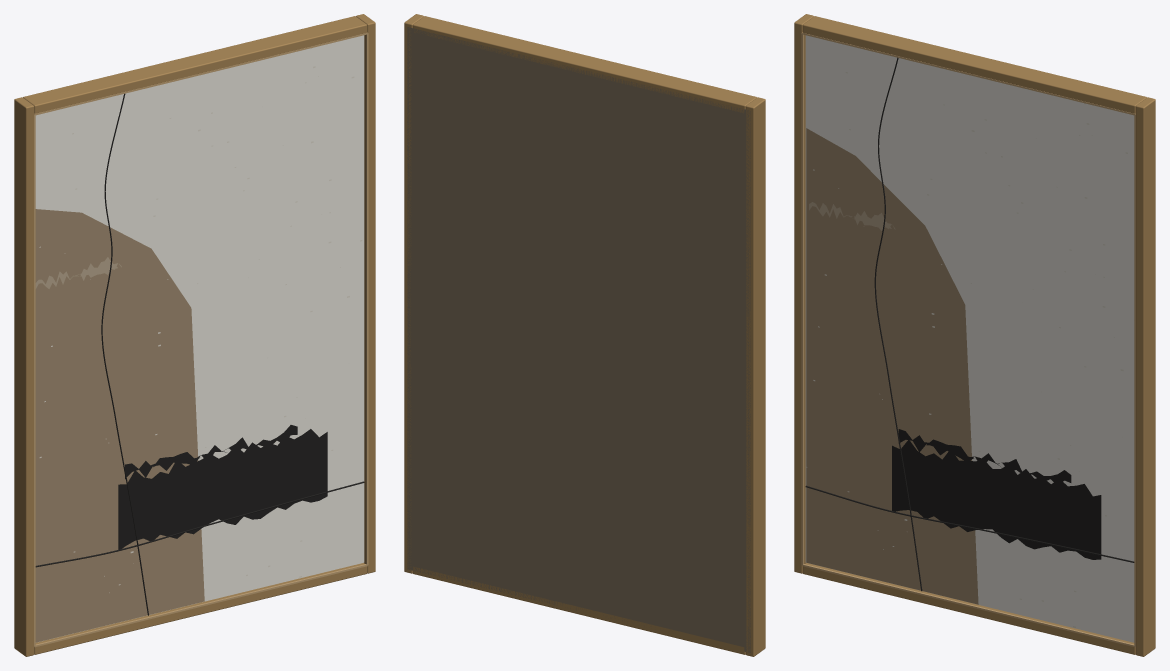
The model's file is kairne-abstract-1.glb.
3 renders of one model, left to right at view 1: azimuth 30°, elevation 25°; view 2: azimuth 150°, elevation 25°; view 3: azimuth 330°, elevation 25°, orthographic.
Parts seen in each view (by area): view 1: Ivory canvas, Warm taupe abstract paint, Light oak frame, Abstract charcoal paint, Frame bevel highlight, Dry taupe brush strokes; view 2: Frame backing, Light oak frame; view 3: Ivory canvas, Warm taupe abstract paint, Light oak frame, Abstract charcoal paint, Frame bevel highlight, Dry taupe brush strokes.
Part boxes in pixels (box(x1,y1,x2,y2)): Ivory canvas: box(35, 35, 364, 642); Warm taupe abstract paint: box(35, 209, 204, 642); Light oak frame: box(14, 14, 375, 656); Abstract charcoal paint: box(35, 93, 364, 615); Frame bevel highlight: box(34, 32, 368, 647); Dry taupe brush strokes: box(35, 257, 121, 288); Frame backing: box(407, 27, 750, 652); Light oak frame: box(404, 14, 765, 656); Ivory canvas: box(805, 35, 1134, 642); Warm taupe abstract paint: box(806, 128, 978, 604); Light oak frame: box(794, 14, 1155, 656); Abstract charcoal paint: box(805, 57, 1134, 591); Frame bevel highlight: box(801, 32, 1135, 647); Dry taupe brush strokes: box(809, 202, 895, 230).
Size of the model in its own units: 0.4064 by 0.6096 by 0.025.
